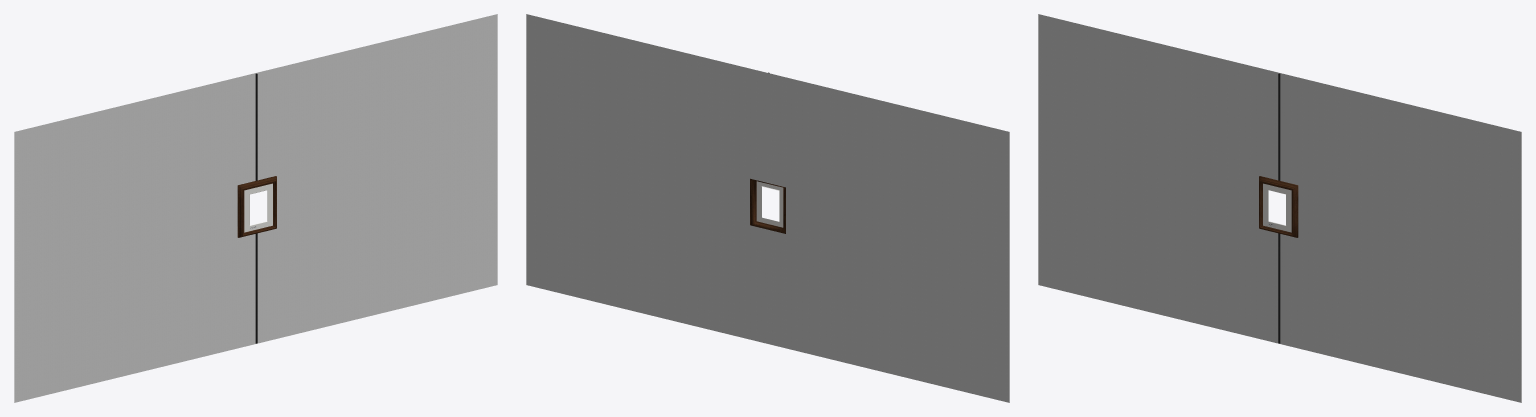
The model's file is frame_wall_optimized.glb.
3 views of the same model, side by side, from view 1: azimuth 30°, elevation 25°; view 2: azimuth 150°, elevation 25°; view 3: azimuth 330°, elevation 25° (orthographic).
Parts seen in each view (by area): view 1: wall, frame, passpartout; view 2: wall, frame, passpartout; view 3: wall, frame, passpartout.
Boxes of the visible parts, x1,y1,x2,y2 form: wall: (14, 14, 497, 402); frame: (237, 176, 276, 237); passpartout: (244, 183, 272, 232); wall: (526, 14, 1009, 402); frame: (750, 178, 785, 233); passpartout: (756, 181, 783, 227); wall: (1038, 14, 1521, 402); frame: (1259, 176, 1298, 237); passpartout: (1263, 183, 1291, 232).
Bounding box in the file's own units: 73.75 × 39.51 × 0.9231.
Materials: 8 (5 with a texture image).
